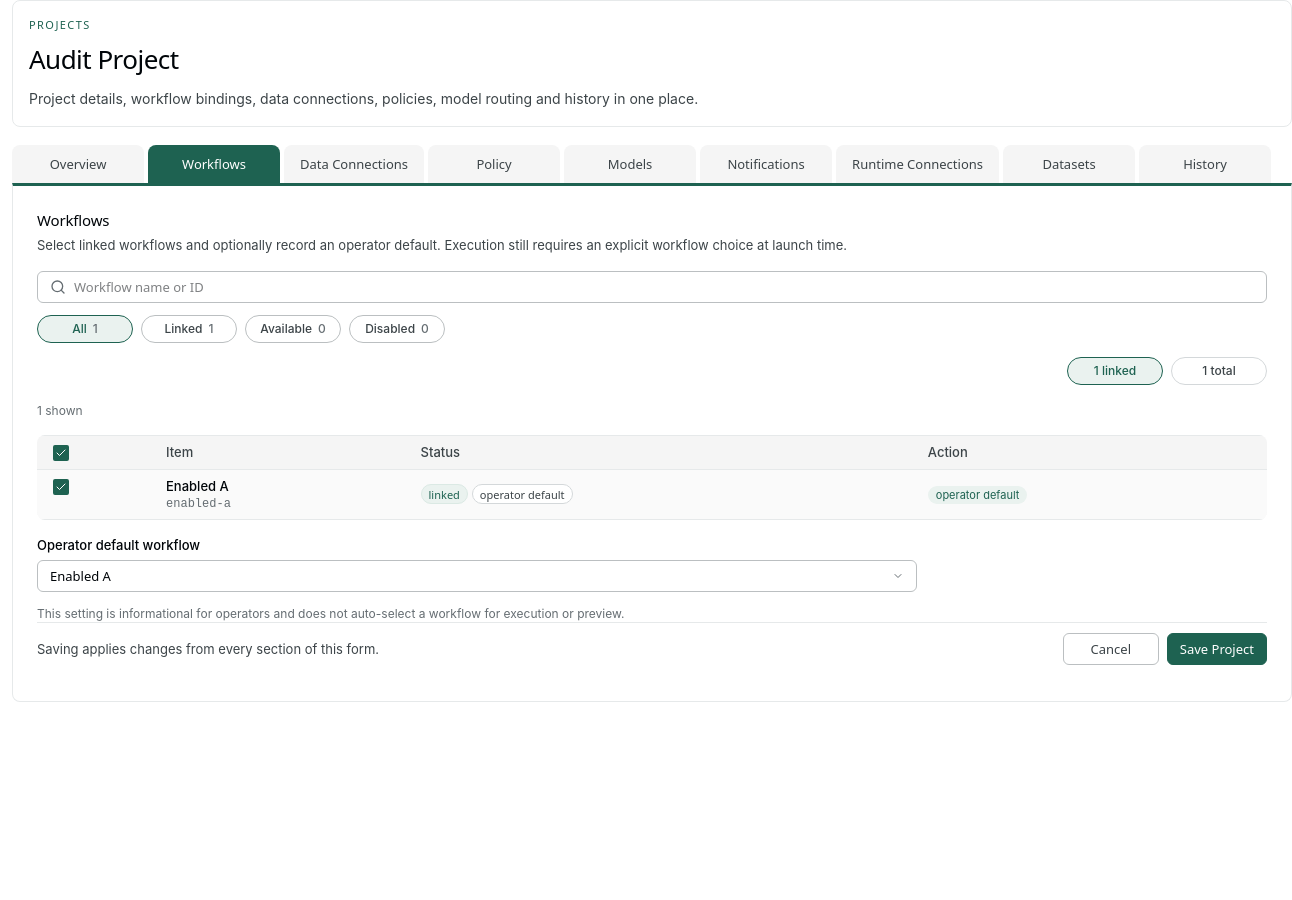
Test: ProjectsDetailPage › lets an operator explicitly choose No operator default without unlinking workflows
The width and height of the screenshot is (1292, 900).
Step 1. Click the dropdown named "Operator default workflow" → (80, 576), box [37,560,917,592]
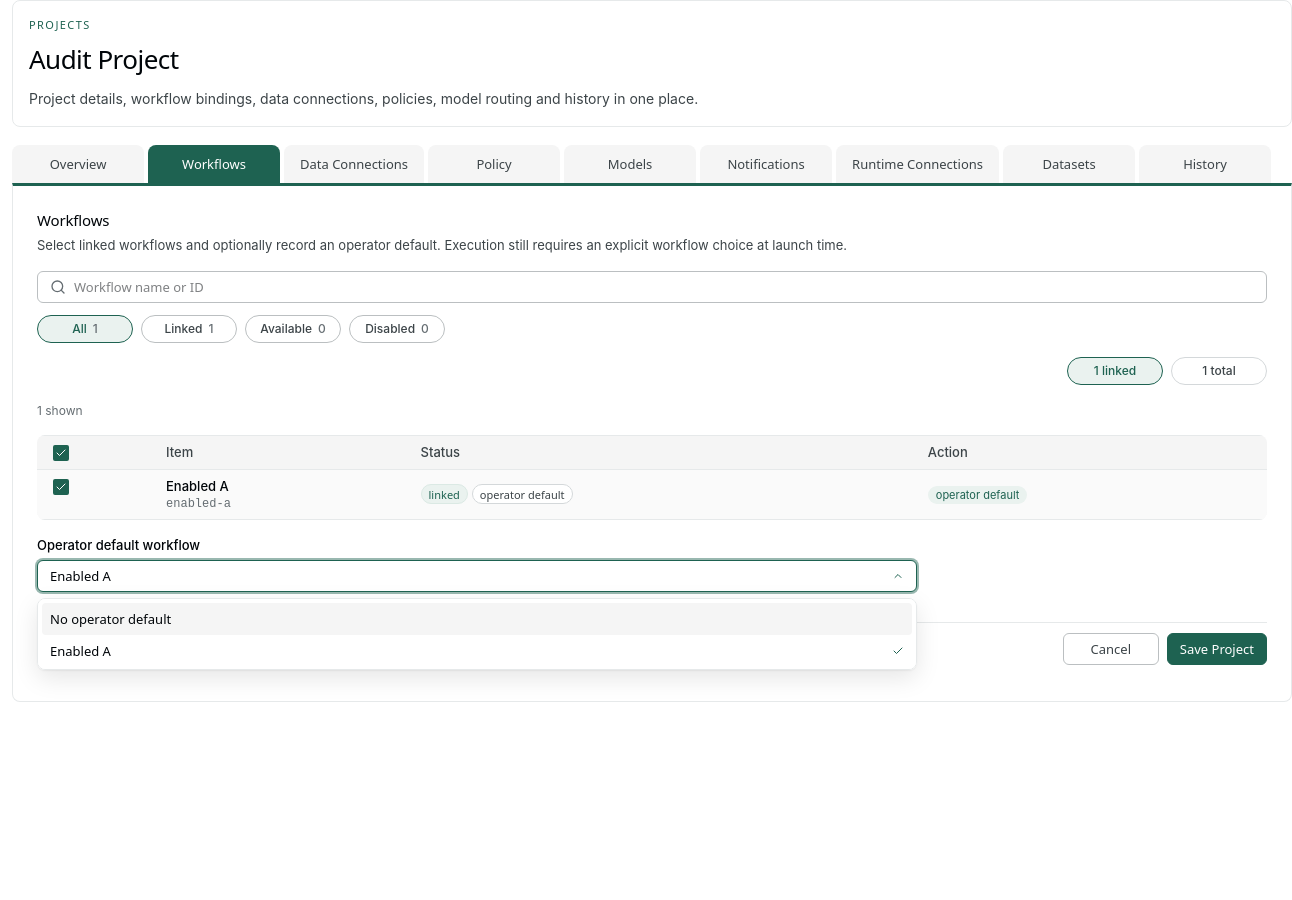
Step 2. Press Enter
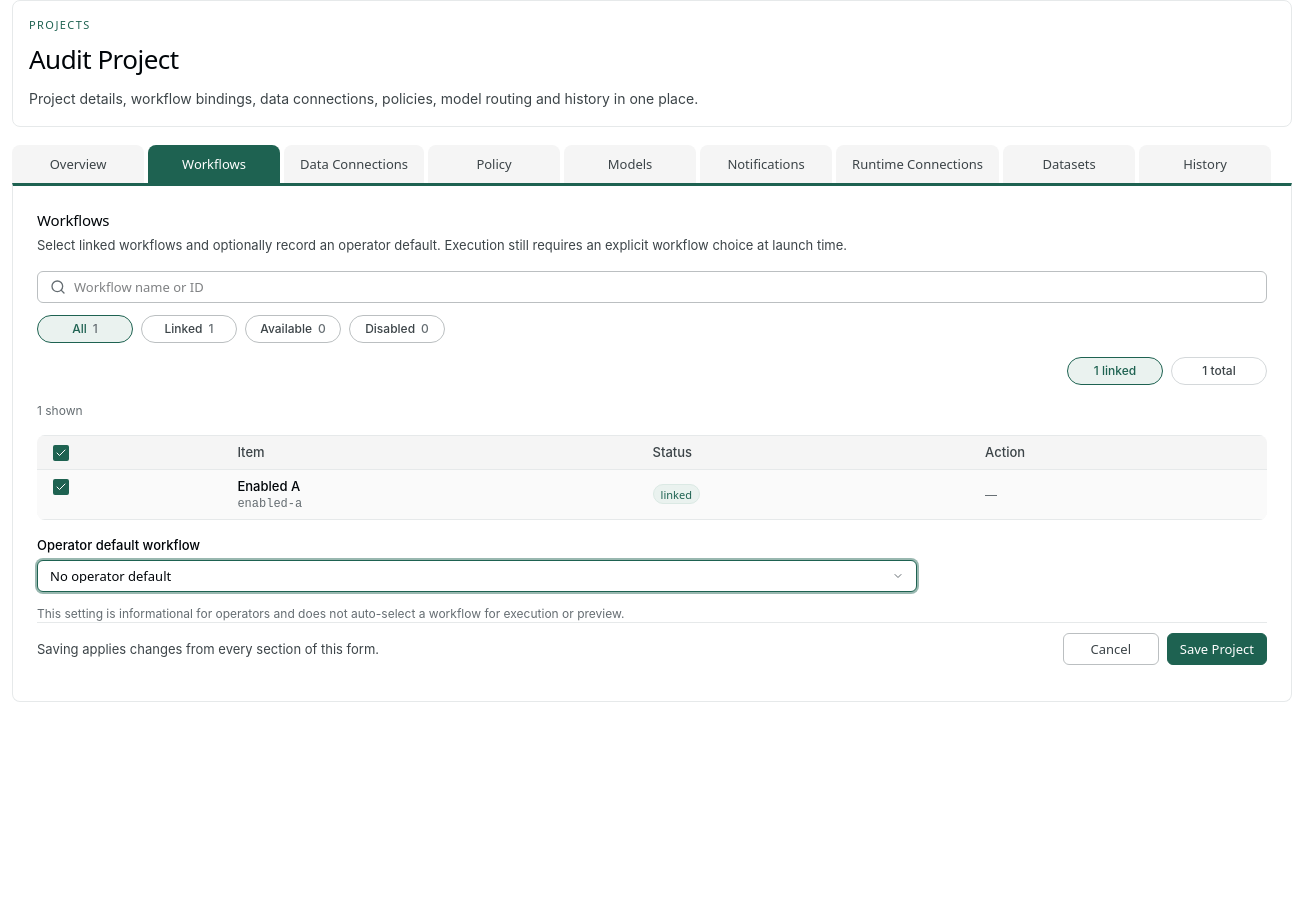
Expected: the checkbox named "Toggle Enabled A" is checked, [53,479,69,495]
Result: the dropdown named "Operator default workflow" reads "No operator default" at [37,560,917,592]
Step 3. Click the button "Save Project" → (1217, 649), box [1167,633,1267,665]
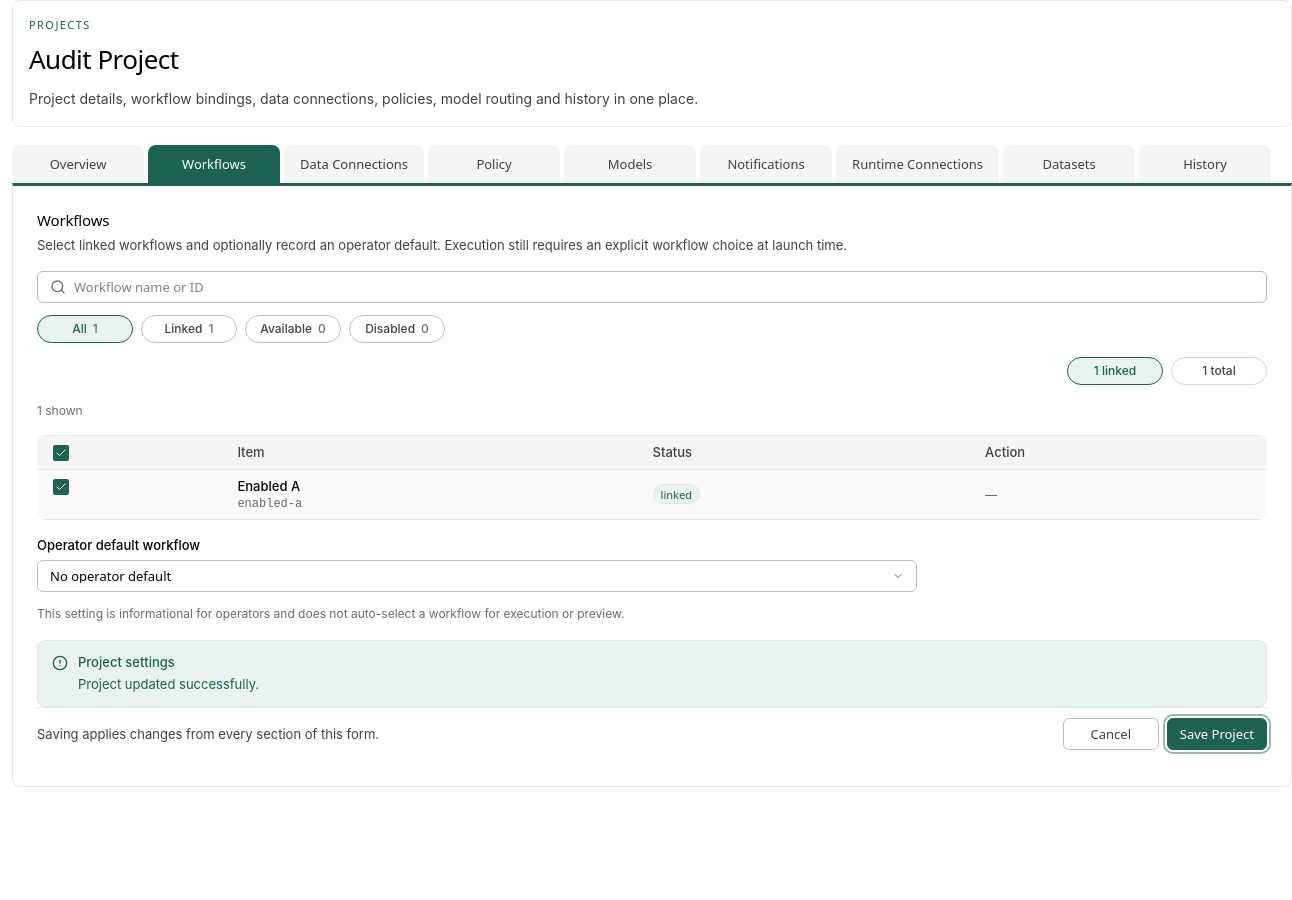
Result: the text "Project updated successfully." is shown at [78,676,259,692]
